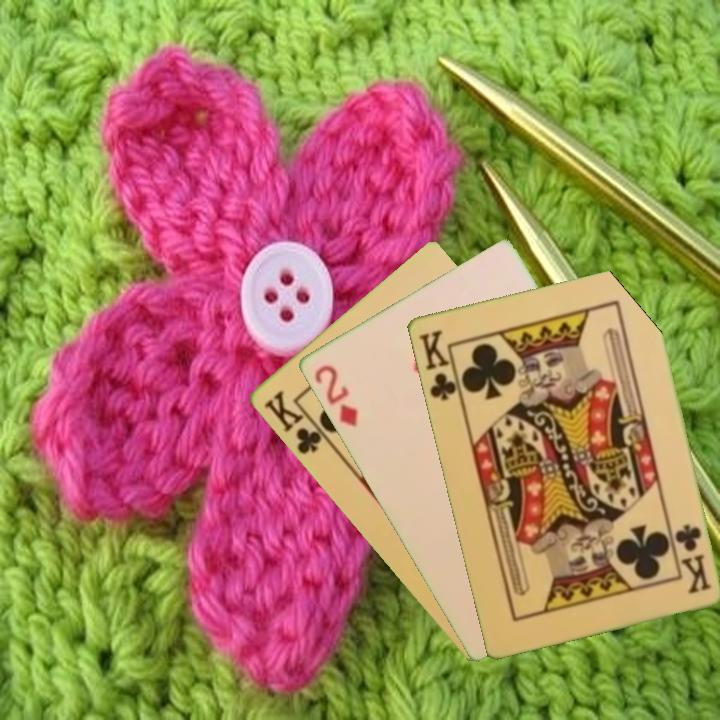2d: (310, 361, 360, 430)
Kc: (260, 387, 333, 458), (415, 326, 463, 403), (672, 520, 714, 597)
